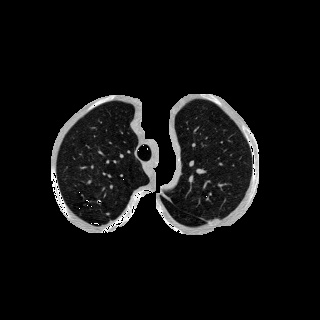PN: (97, 200, 101, 204)
